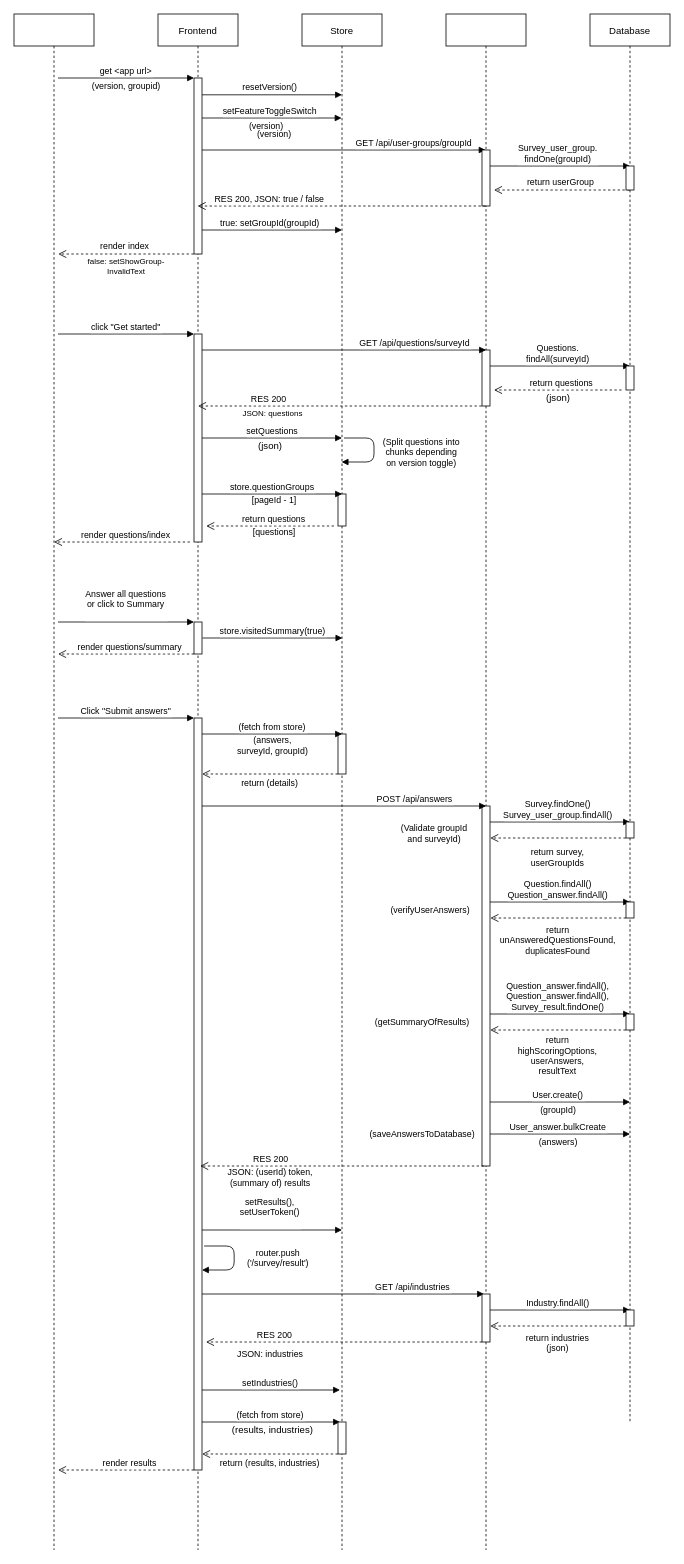
The diagram is 684 pixels wide and 1564 high, and some of its shapes have lost their labels. The shapes that lost their labels are listed below. From the top down, each one's box as (x1, y1, x2, y2) in pixels, then its label:
(13, 13, 94, 1550): User
(445, 13, 526, 1550): Backend
